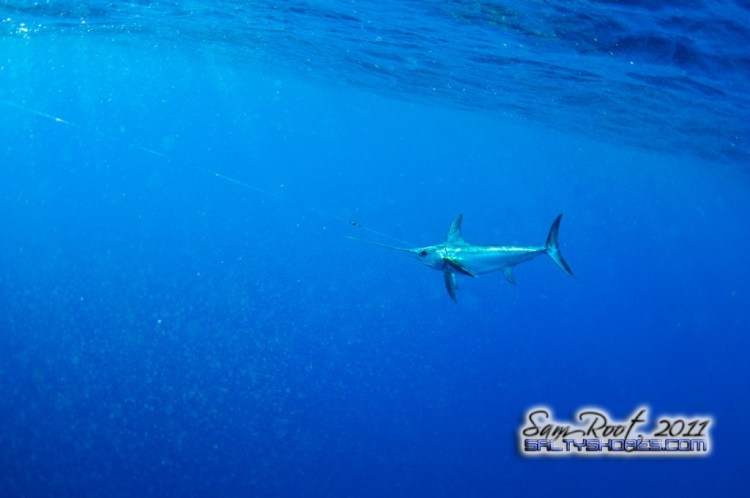swordfish: (324, 203, 588, 299)
